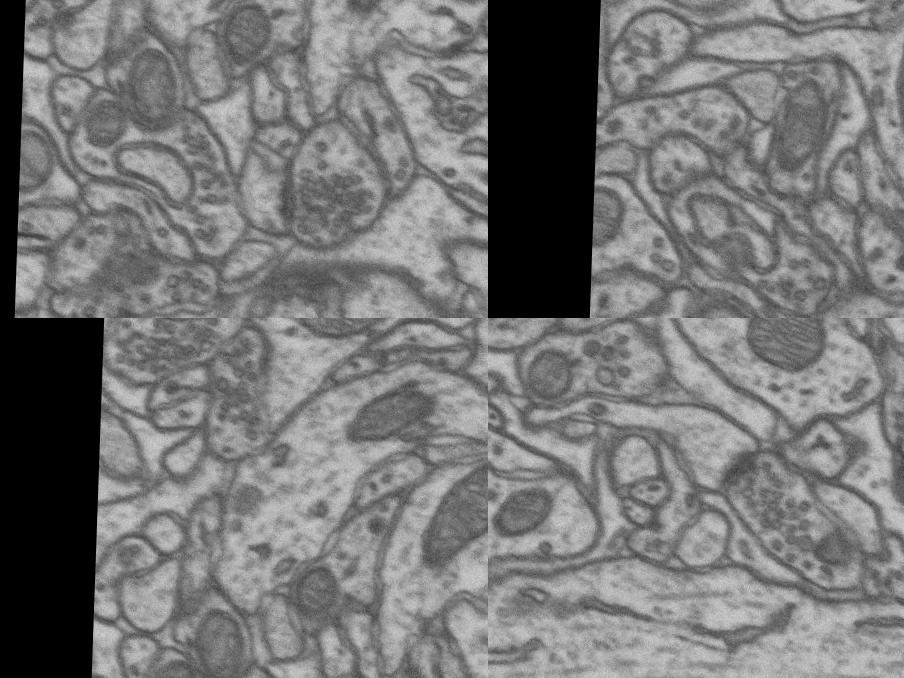mitochondria: (414, 441, 488, 575), (338, 374, 440, 447), (737, 318, 856, 380), (800, 510, 880, 588), (766, 78, 828, 174), (122, 44, 183, 134), (521, 319, 588, 398), (282, 554, 348, 634), (211, 0, 278, 74), (192, 604, 253, 678), (488, 484, 546, 551), (18, 124, 62, 198), (278, 318, 401, 342), (80, 97, 132, 146), (592, 183, 623, 251), (694, 294, 774, 318), (150, 657, 202, 678)
